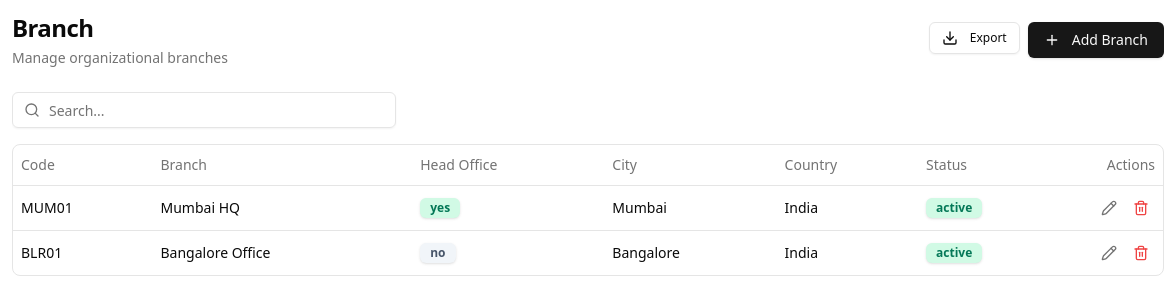
Test: Branch management module › SEARCH: filters branches by code, name or city
Expected: the text "Mumbai HQ" is shown, [152, 185, 412, 230]
Expected: the text "Bangalore Office" is shown, [152, 230, 412, 274]
In the field with placeholder "Search...": coordinates (204, 110) [12, 92, 396, 128], type "Bangalore"
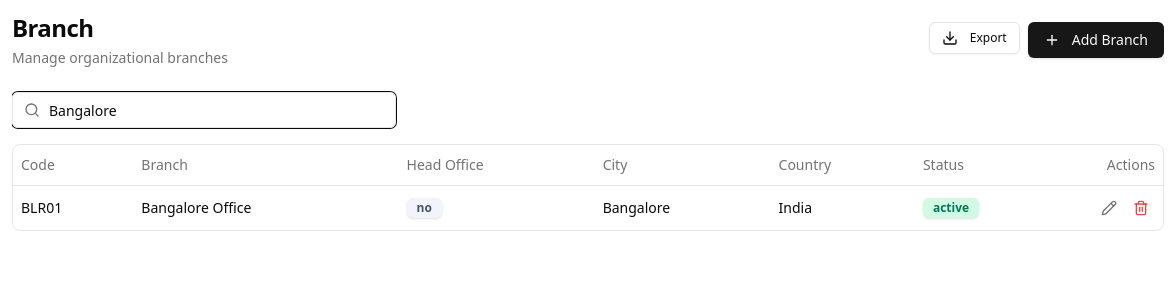
Expected: the text "Bangalore Office" is shown, [133, 185, 398, 230]
Now the text "Mumbai HQ" is gone
